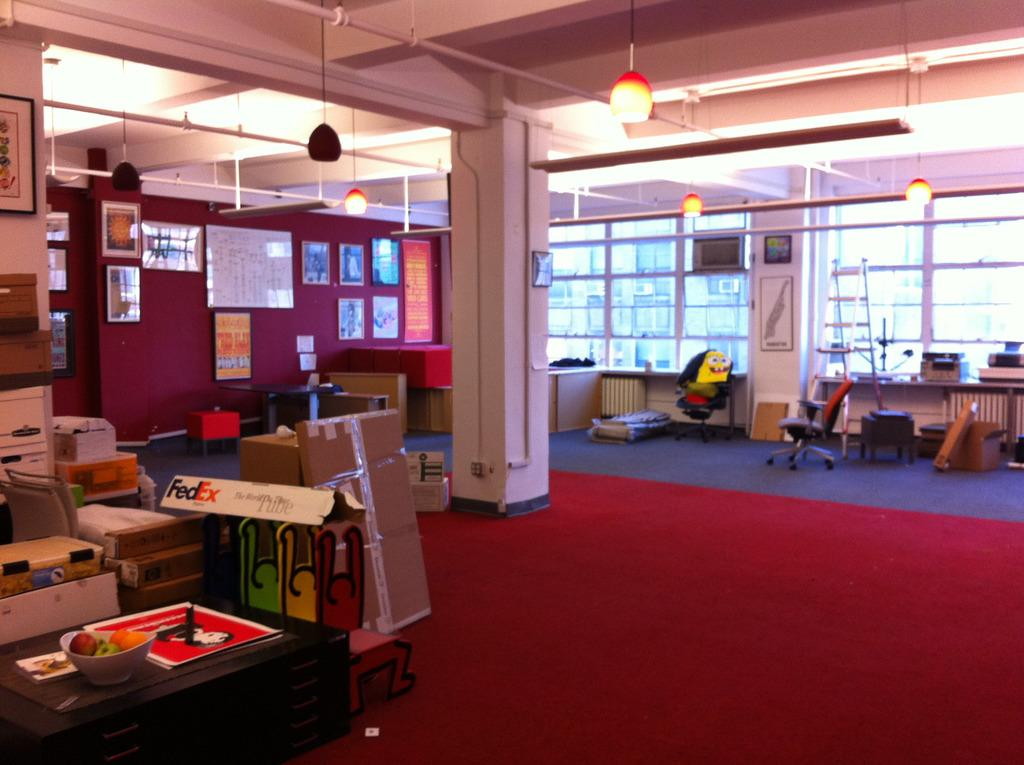Chair: (765, 375, 854, 473)
